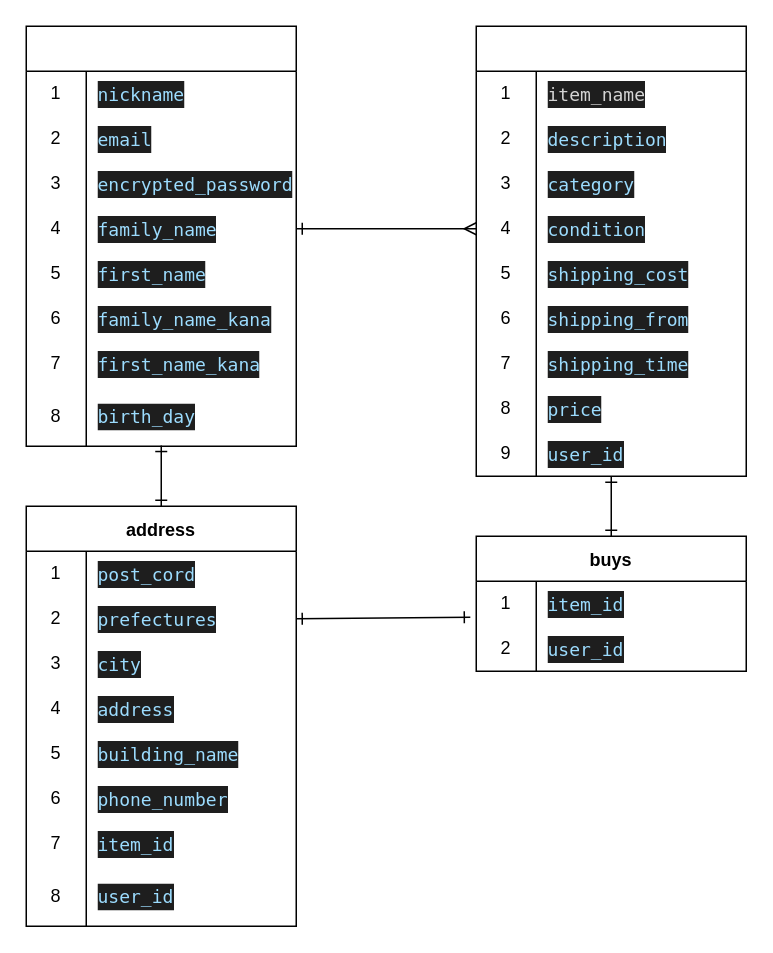
Some shapes in this 773 by 953 pixel diagram are drawn without their labels. Each missing label, with the box of its shape:
items: (475, 25, 746, 476)
users: (25, 25, 296, 446)
